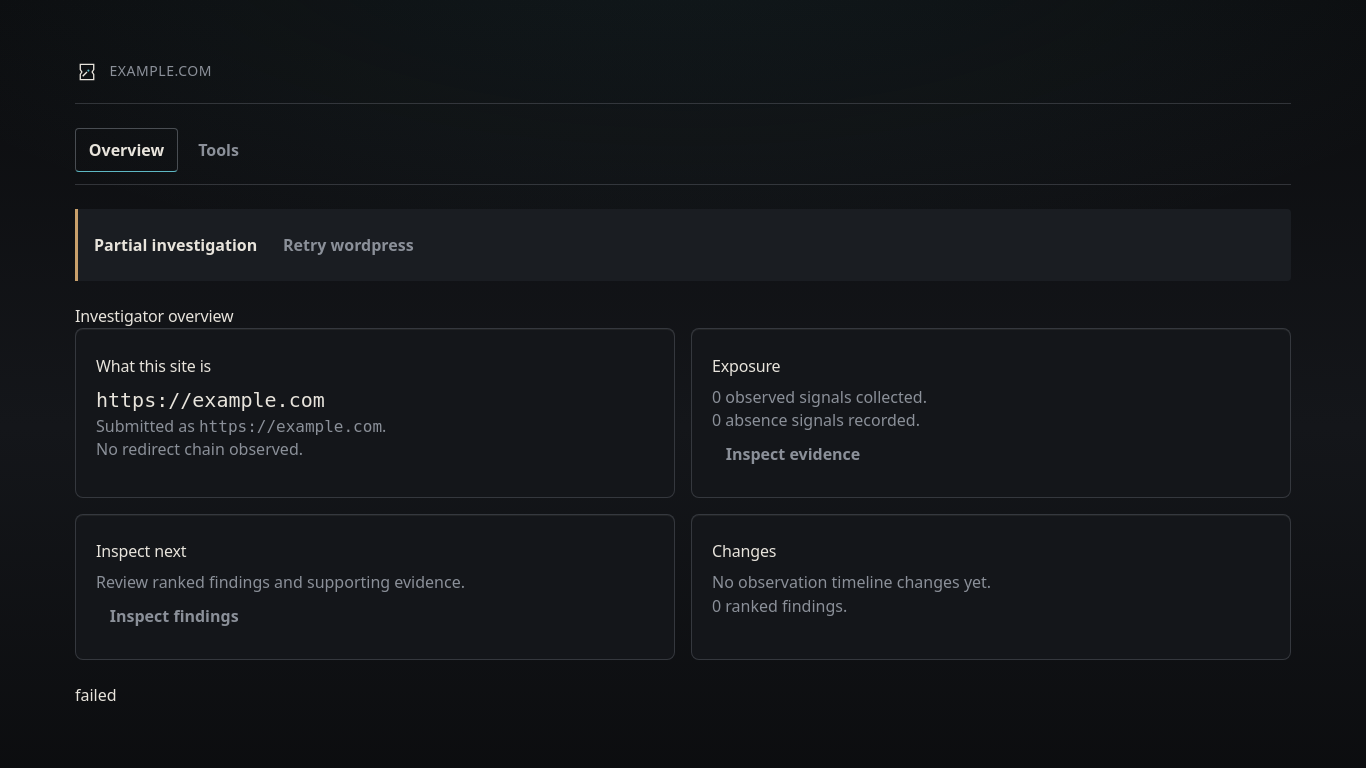
Test case: InvestigatorShell › updates displayed capability status when retry command changes session model
Step 1. Click the button "Tools" → x=219, y=150, box [184, 128, 253, 172]
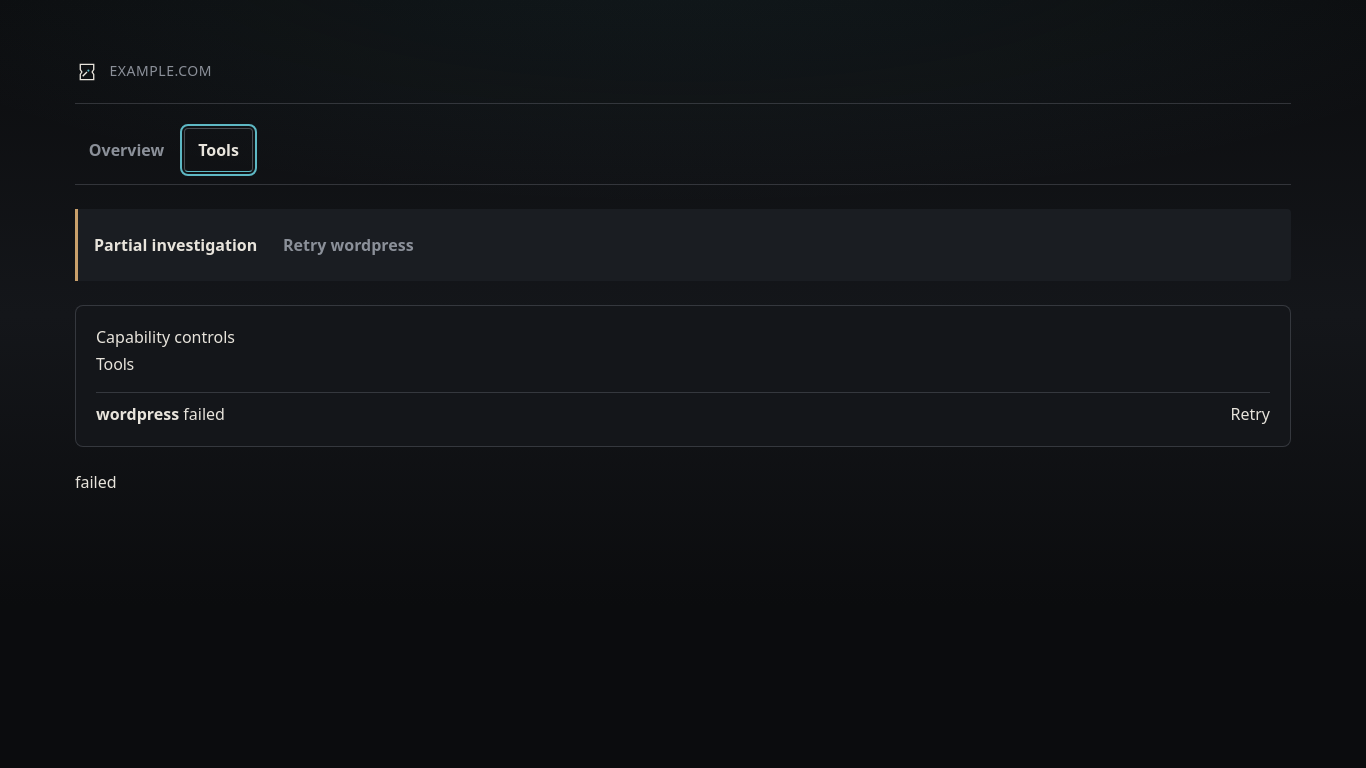
Now the list item shows "wordpress failed", box [96, 392, 1270, 426]
Step 2. Click the button "Retry" → x=1250, y=414, box [1230, 403, 1270, 426]
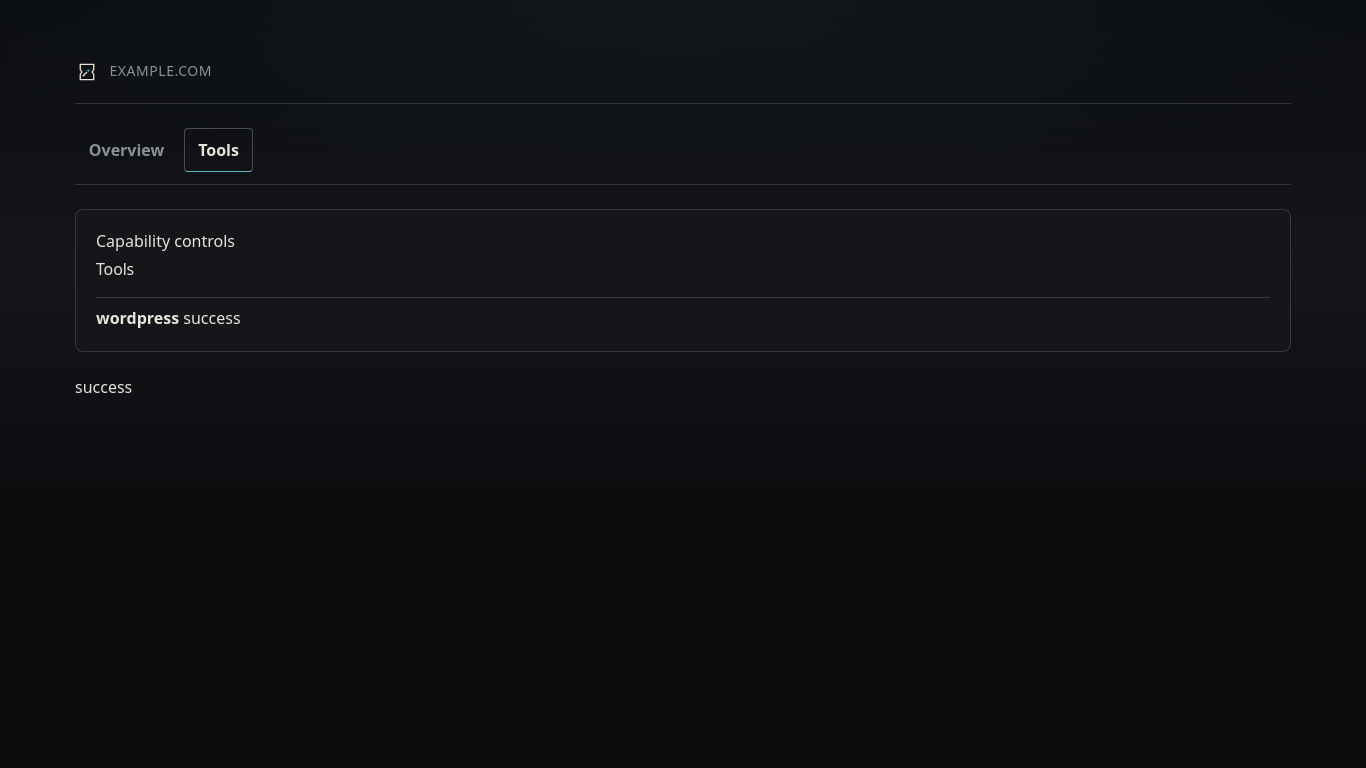
Now the list item reads "wordpress success", box [96, 297, 1270, 331]
Now the button "Retry" is gone
